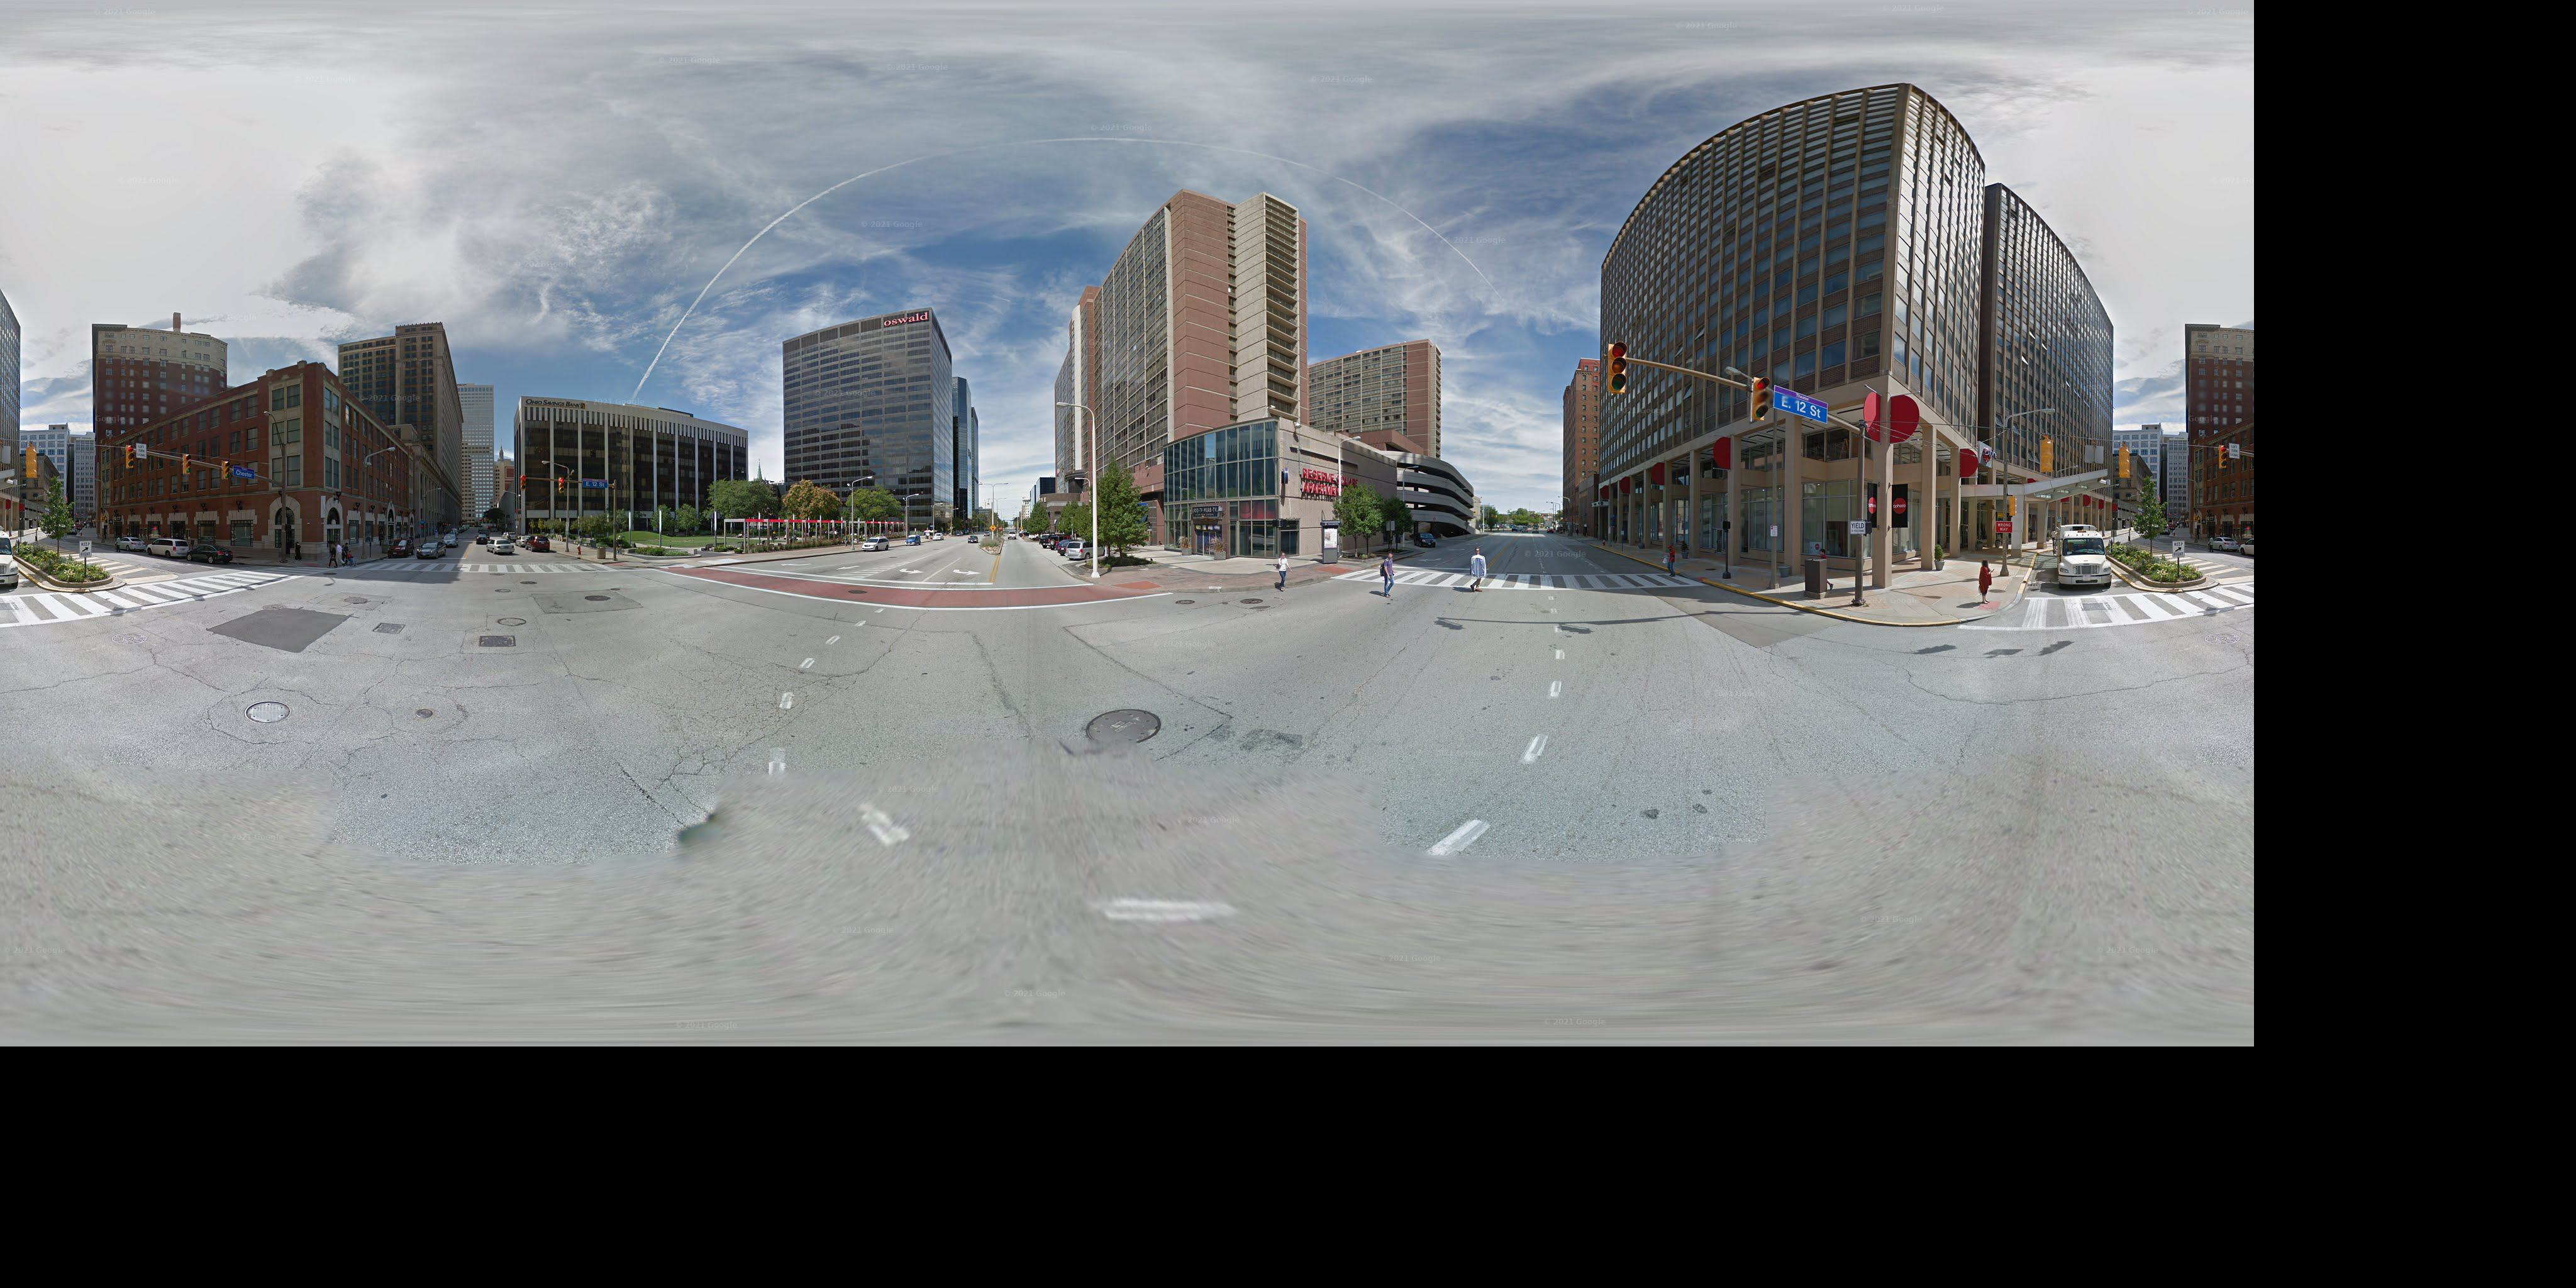Curb Ramp: (1097, 572, 1170, 605), (1966, 590, 2012, 621), (1313, 555, 1355, 580), (1681, 563, 1715, 590), (601, 555, 632, 572), (659, 560, 692, 575), (297, 559, 322, 573)
